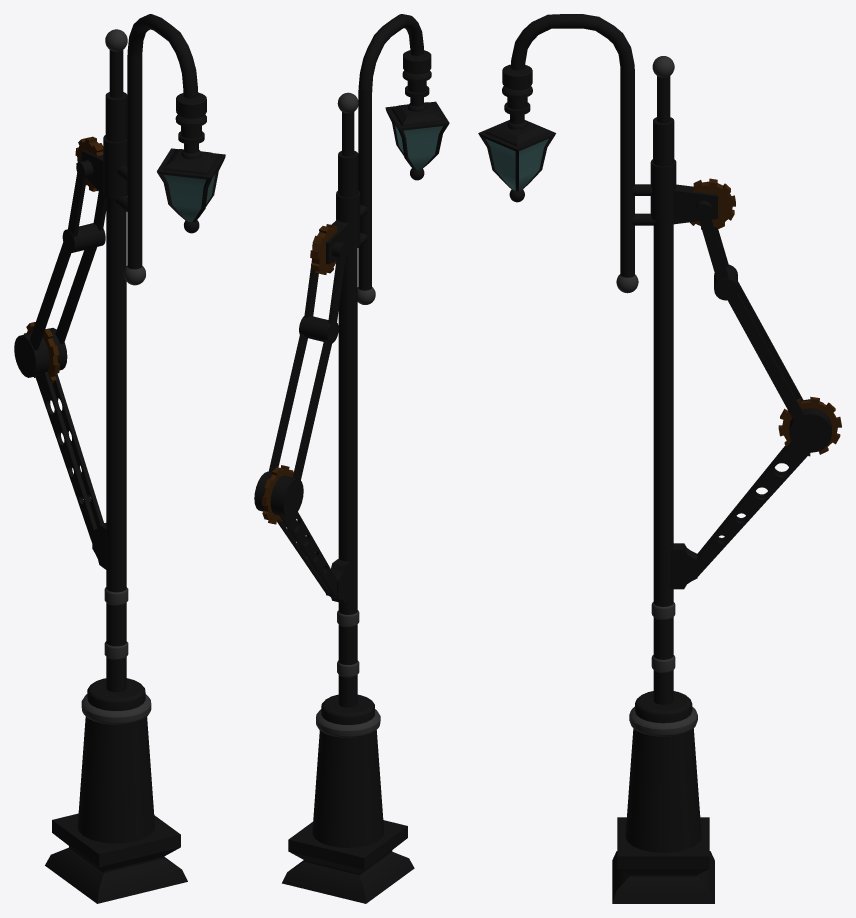
The model's file is SteamPunk Lamp post.fbx.
The picture shows the model from 3 angles, left to right: view 1: azimuth 30°, elevation 25°; view 2: azimuth 150°, elevation 25°; view 3: azimuth 270°, elevation 25°; orthographic projection. The views are drawn at different scales.
Visible parts, largest first — view 1: pCylinder23; view 2: pCylinder23; view 3: pCylinder23.
Boxes of the visible parts, <box> form: pCylinder23: <box>14,14,225,903</box>; pCylinder23: <box>254,14,449,903</box>; pCylinder23: <box>478,14,841,903</box>.
Bounding box in the file's own units: 6.8 × 63.3 × 24.05.
